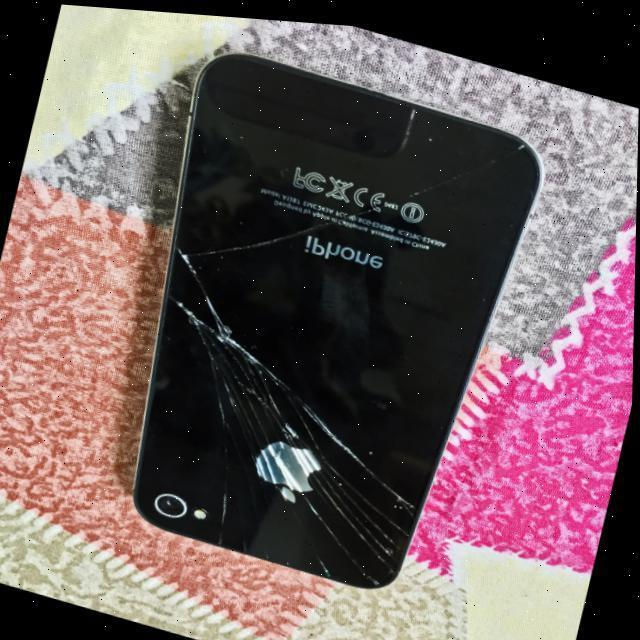Crack: (162, 218, 457, 596)
